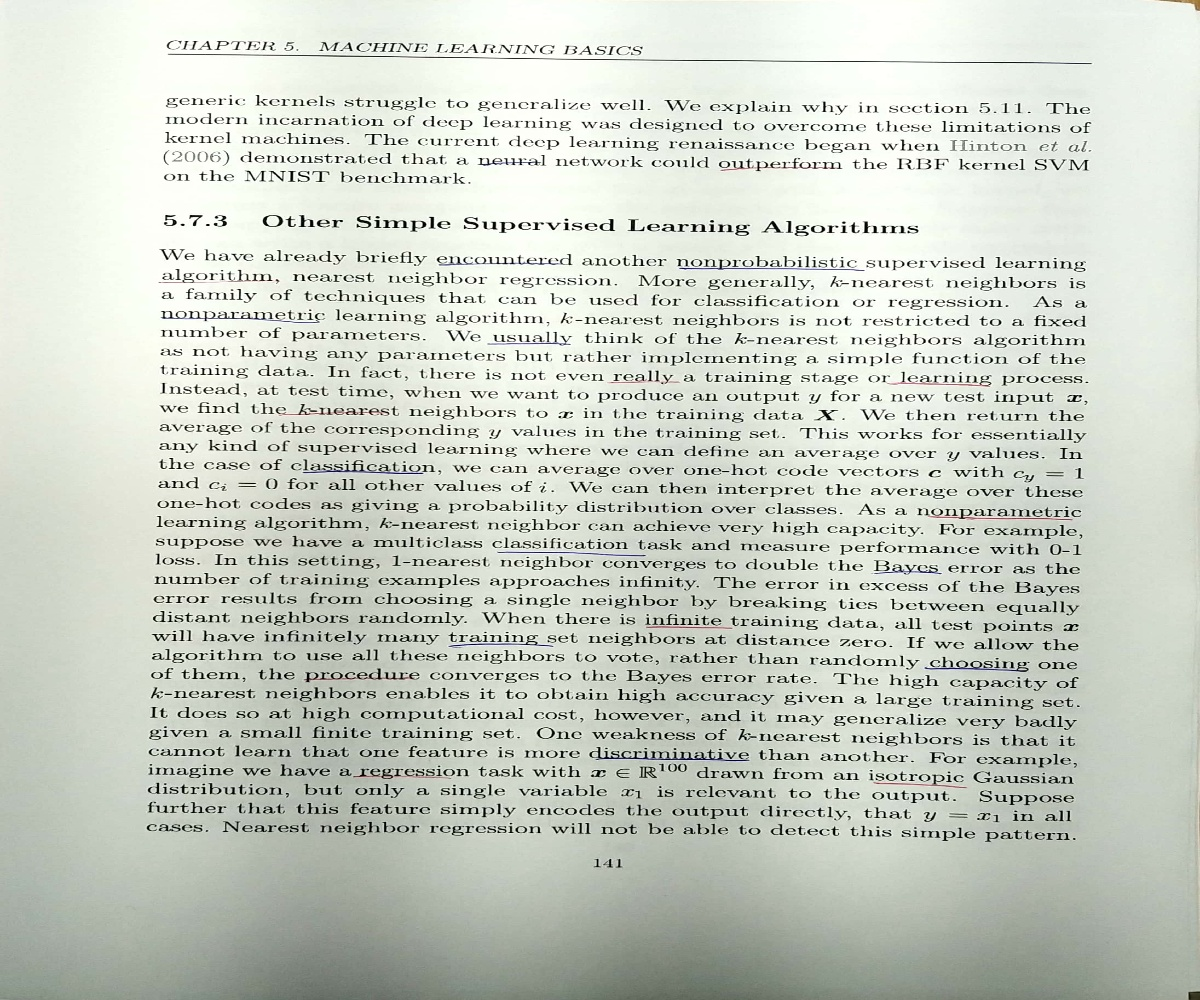underline: (678, 264, 870, 274), (162, 315, 325, 325), (928, 513, 1076, 523), (594, 754, 750, 763), (871, 778, 968, 791), (496, 549, 650, 557), (923, 665, 1031, 676), (437, 260, 577, 268), (277, 410, 401, 418), (447, 641, 557, 650), (352, 773, 454, 782), (301, 468, 426, 475), (304, 675, 412, 683), (719, 166, 842, 173), (885, 381, 992, 389), (159, 278, 275, 285), (486, 340, 574, 348), (644, 624, 737, 631), (477, 161, 545, 170), (608, 378, 683, 386), (873, 569, 943, 575)
